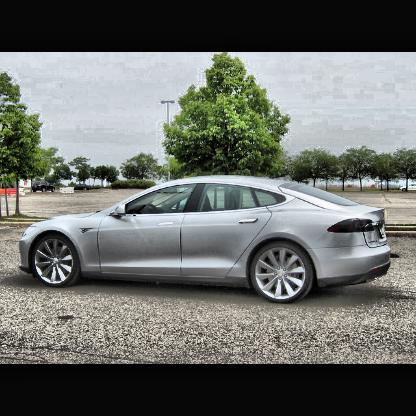Tesla Model S Sedan 2012: (20, 178, 394, 307)
